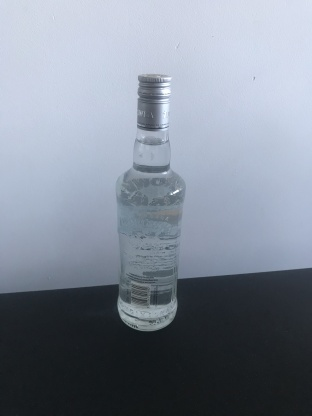nakretka: (135, 71, 173, 133)
